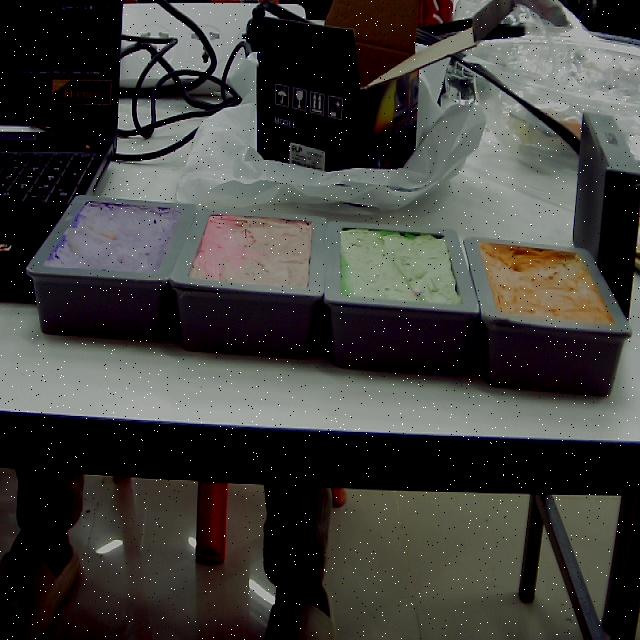block: (462, 238, 634, 395), (25, 196, 196, 342), (166, 207, 328, 358), (322, 223, 479, 377)
